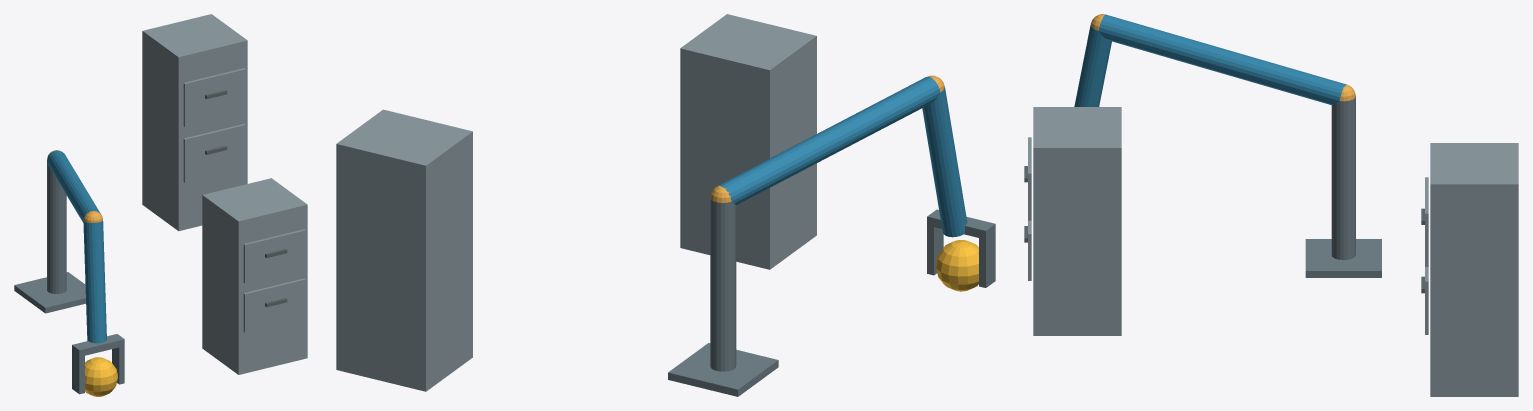
3 renders of one model, left to right at view 1: azimuth 30°, elevation 25°; view 2: azimuth 150°, elevation 25°; view 3: azimuth 270°, elevation 25°, orthographic. The views are drawn at different scales.
Visible parts, largest first — view 1: cabinet_2 body, cabinet_1 body, cabinet_2 drawer front.001, cabinet_2 drawer front, moving link 2, cabinet_1 drawer front, cabinet_1 drawer front.001, fixed post, pedestal, moving link 1, ball ball_1, gripper bridge (+2 smaller); view 2: cabinet_2 body, cabinet_1 body, moving link 1, fixed post, moving link 2, pedestal, ball ball_1, gripper finger -1, gripper bridge, gripper finger 1; view 3: cabinet_2 body, cabinet_1 body, moving link 1, fixed post, pedestal, moving link 2.
Boxes of the visible parts, bbox=[...] form: cabinet_2 body: bbox=[142, 14, 247, 231]; cabinet_1 body: bbox=[202, 178, 307, 374]; cabinet_2 drawer front.001: bbox=[183, 68, 245, 127]; cabinet_2 drawer front: bbox=[183, 124, 245, 182]; moving link 2: bbox=[83, 221, 106, 343]; cabinet_1 drawer front: bbox=[243, 278, 305, 332]; cabinet_1 drawer front.001: bbox=[243, 229, 305, 283]; fixed post: bbox=[47, 161, 66, 293]; pedestal: bbox=[14, 272, 85, 313]; moving link 1: bbox=[47, 150, 100, 222]; ball ball_1: bbox=[85, 357, 117, 396]; gripper bridge: bbox=[72, 334, 124, 356]; cabinet_2 body: bbox=[336, 109, 472, 391]; cabinet_1 body: bbox=[680, 14, 816, 269]; moving link 1: bbox=[717, 76, 940, 205]; fixed post: bbox=[710, 197, 736, 371]; moving link 2: bbox=[922, 86, 967, 237]; pedestal: bbox=[668, 343, 778, 396]; ball ball_1: bbox=[935, 240, 978, 291]; gripper finger -1: bbox=[979, 233, 995, 287]; gripper bridge: bbox=[927, 209, 995, 239]; gripper finger 1: bbox=[927, 225, 943, 275]; cabinet_2 body: bbox=[1430, 143, 1518, 396]; cabinet_1 body: bbox=[1033, 107, 1121, 335]; moving link 1: bbox=[1098, 14, 1346, 105]; fixed post: bbox=[1331, 96, 1355, 260]; pedestal: bbox=[1305, 239, 1381, 277]; moving link 2: bbox=[1074, 24, 1111, 106].
Size of the model in its own units: 1.48 by 0.77 by 1.62.
